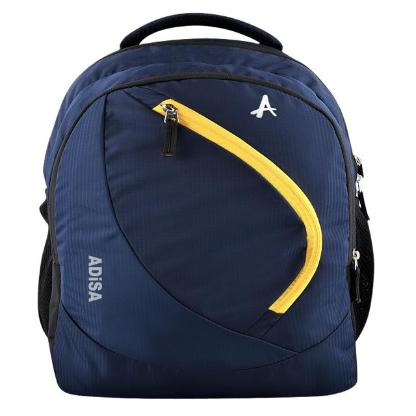bag: (31, 10, 377, 404)
